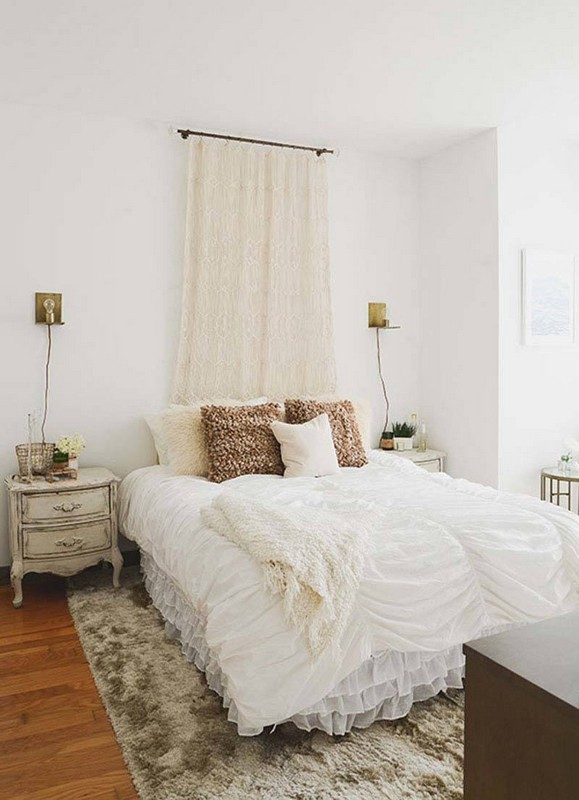bed: (133, 389, 579, 741)
stool: (12, 467, 123, 606)
